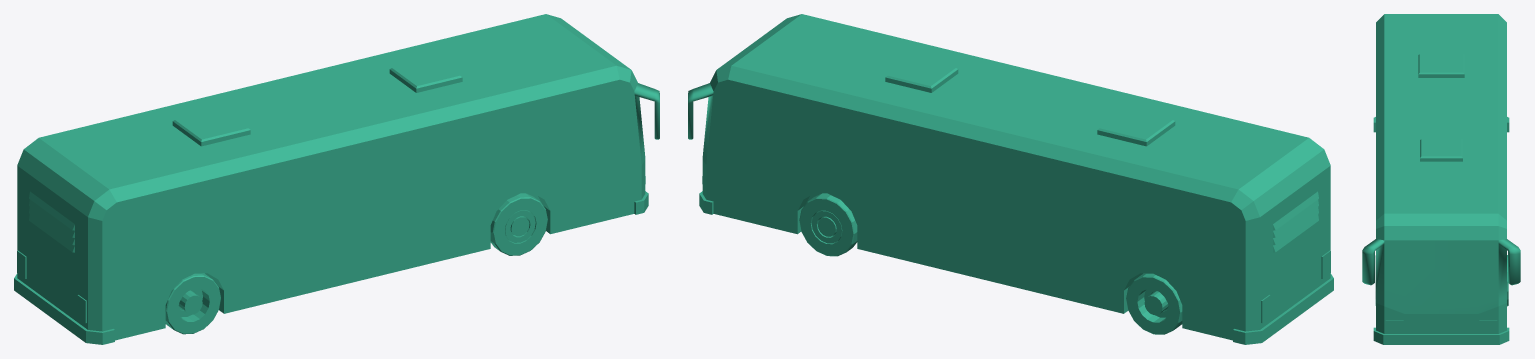
Rendered from bus.fbx.
3 views of the same model, side by side, from view 1: azimuth 30°, elevation 25°; view 2: azimuth 150°, elevation 25°; view 3: azimuth 270°, elevation 25° (orthographic). The views are drawn at different scales.
Visible parts, largest first — view 1: Bus_default; view 2: Bus_default; view 3: Bus_default.
Boxes of the visible parts, x1,y1,x2,y2 form: Bus_default: [14, 14, 659, 344]; Bus_default: [688, 14, 1333, 344]; Bus_default: [1362, 14, 1520, 344].
Size of the model in its own units: 1613 by 454 by 483.
